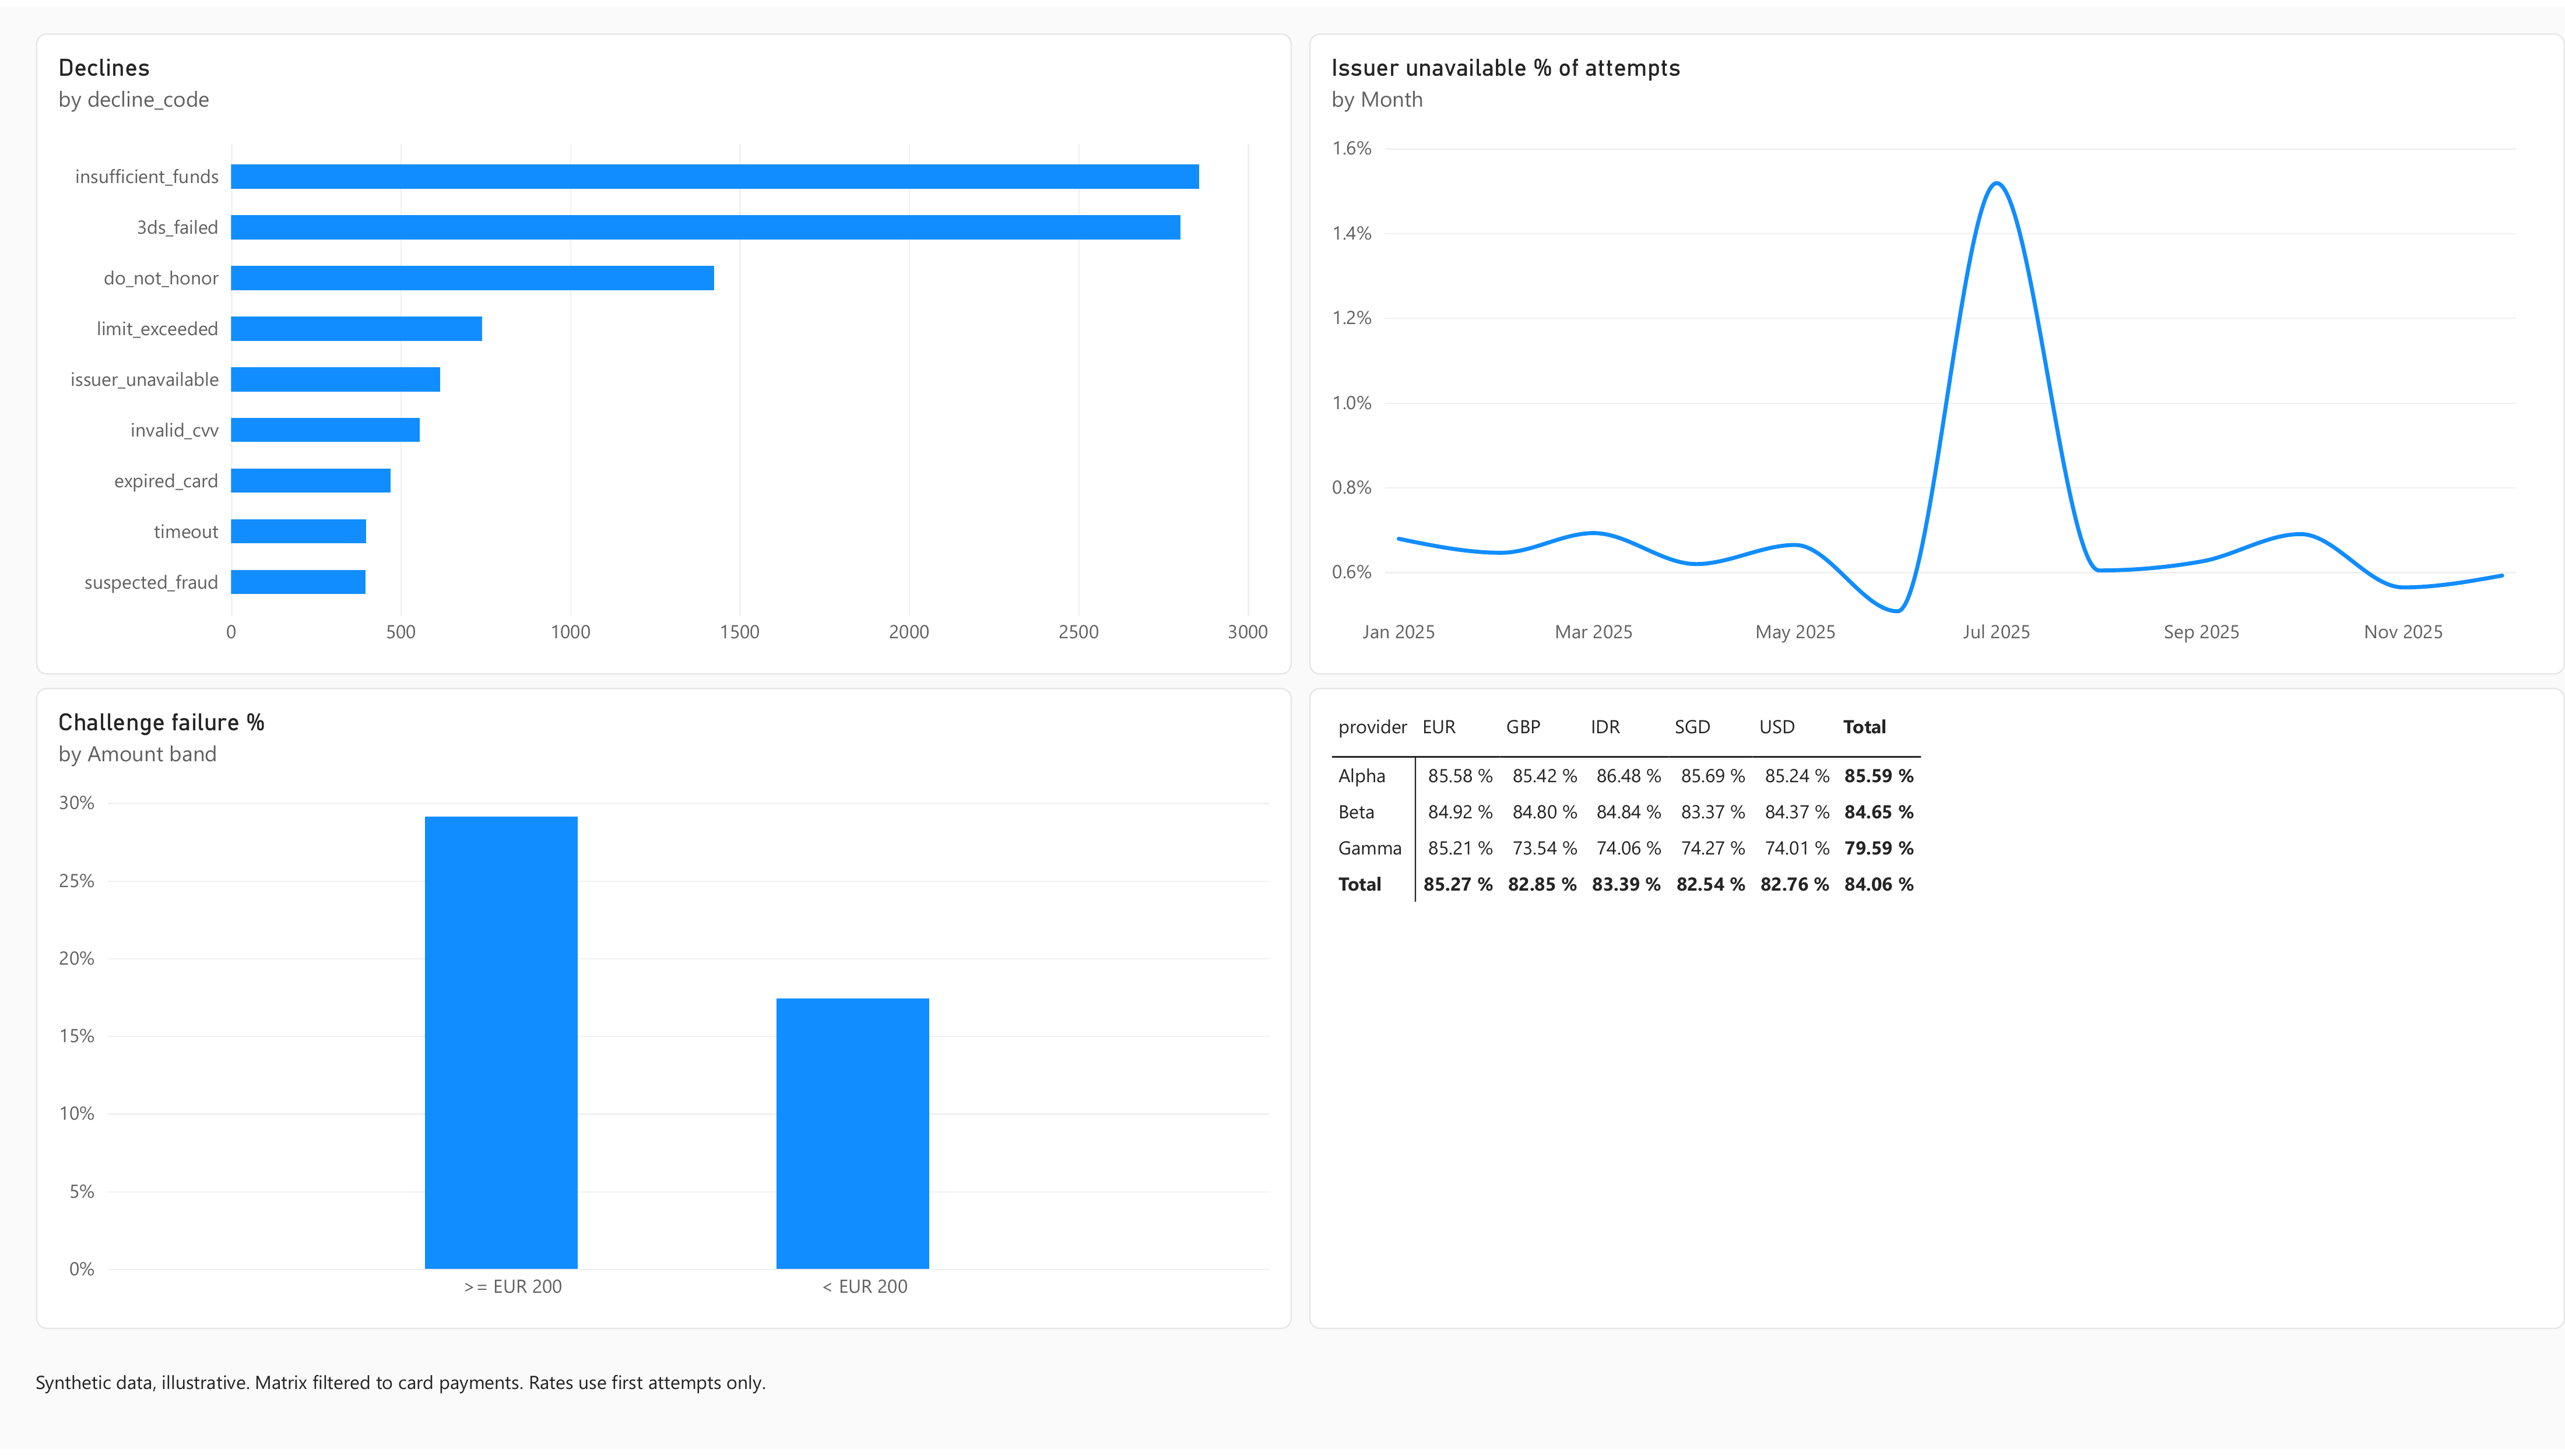

The dashboard page shown, as its layout file describes it:
{"tool":"tableau","page":{"name":"2. Where and why? Synthetic data, illustrative","canvas":[1200,800],"ordinal":1},"visuals":[{"type":"title","box":[8,8,1024,42]},{"type":"legend","title":"Provider by currency (cards)","param":"[federated.0o5fr041ixtg4312150rq0giquz7].[usr:Calculation_4166794988568579:qk]","box":[1032,8,160,65]},{"type":"worksheet","title":"Issuer unavailable by month","mark":"Automatic","rows":["Calculation_4166794988851209"],"cols":["created_at"],"box":[8,50,512,371]},{"type":"worksheet","title":"Declines by reason","mark":"Automatic","rows":["decline_code"],"cols":["Calculation_4166794988781576"],"box":[520,50,256,742]},{"type":"worksheet","title":"3DS by amount","mark":"Automatic","rows":["Calculation_4166794988912651"],"cols":["Calculation_4166794988941324"],"box":[776,50,256,742]},{"type":"worksheet","title":"Provider by currency (cards)","mark":"Automatic","rows":["provider"],"cols":["currency"],"box":[8,421,512,371]}]}

Visuals, with their boxes on the page's 1200x800 design canvas (x1, y1, x2, y2). These are canvas units, not pixel positions in the 2565x1456 screenshot, which may show the page scaled, cropped or inside an application window:
title: 8, 8, 1032, 50
"Provider by currency (cards)" legend: 1032, 8, 1192, 73
"Issuer unavailable by month" worksheet: 8, 50, 520, 421
"Declines by reason" worksheet: 520, 50, 776, 792
"3DS by amount" worksheet: 776, 50, 1032, 792
"Provider by currency (cards)" worksheet: 8, 421, 520, 792
